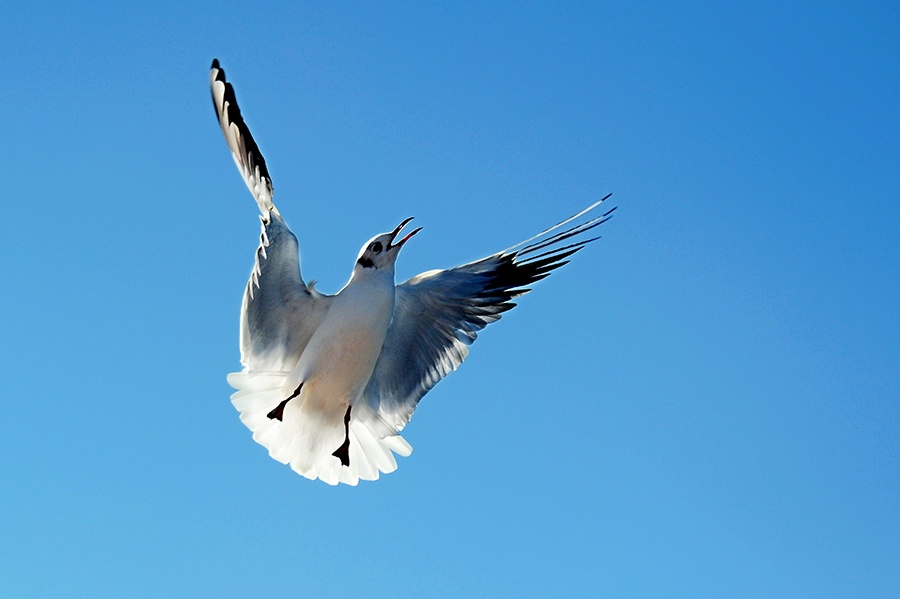bird: (205, 55, 617, 488)
